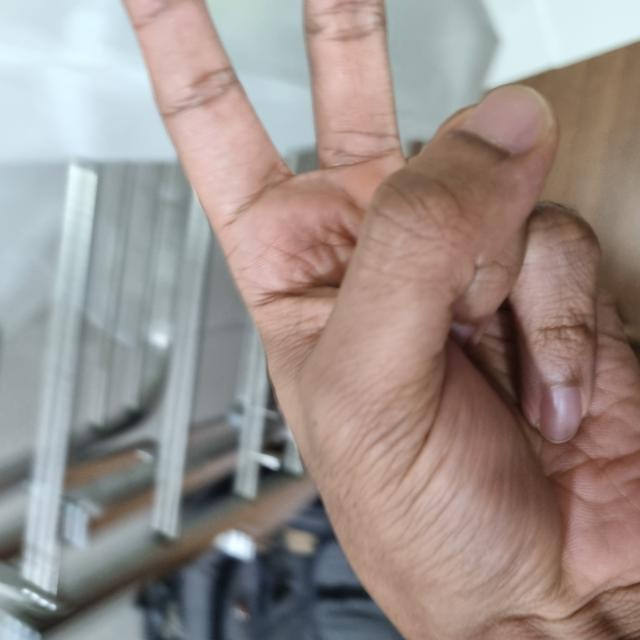Scissors: (0, 267, 542, 639)
